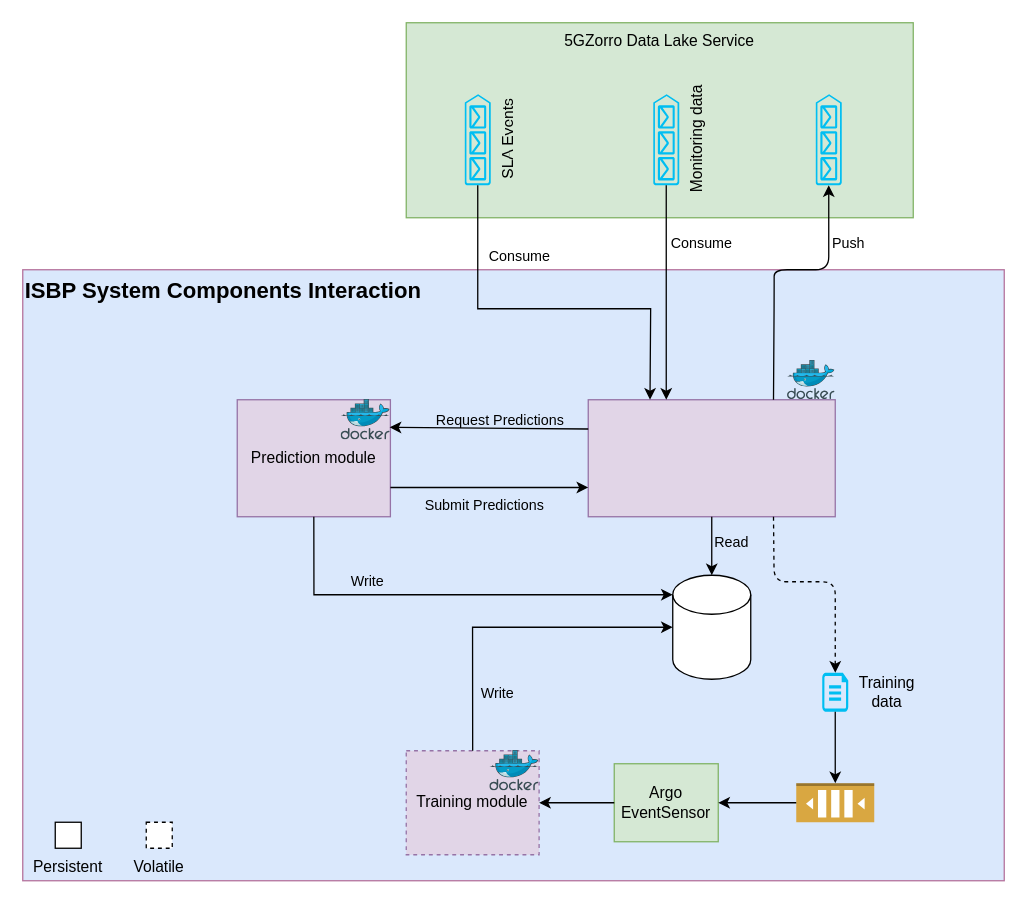
Some shapes in this 1027 by 903 pixel diagram are drawn without their labels. The shapes that lost their labels are listed below. From the top down, each one's centre as x and y in pixels, then its label:
At [828,139]: "Breach notifications".
At [711,457]: "Core ISBP".
At [711,626]: "Model Database".
At [834,802]: "Argo EventBus".
